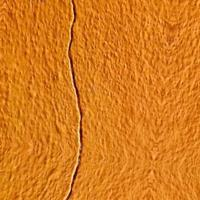crack: (41, 0, 119, 199)
